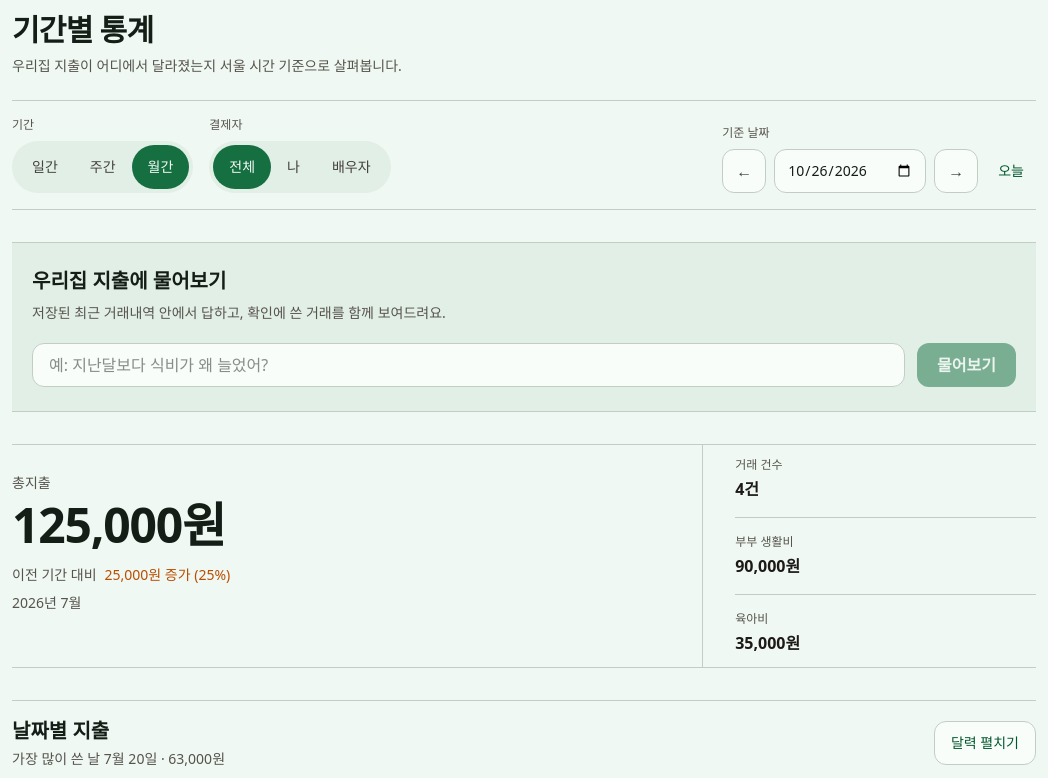
it: SpendingStatisticsPanel › shows the api error when the daily question limit is exhausted
Expected: the text "총지출" is shown, [12,473,51,492]
Type "또 알려줘" into the field named "가계 지출 질문". click: (469,365)
box: [32,343,905,387]
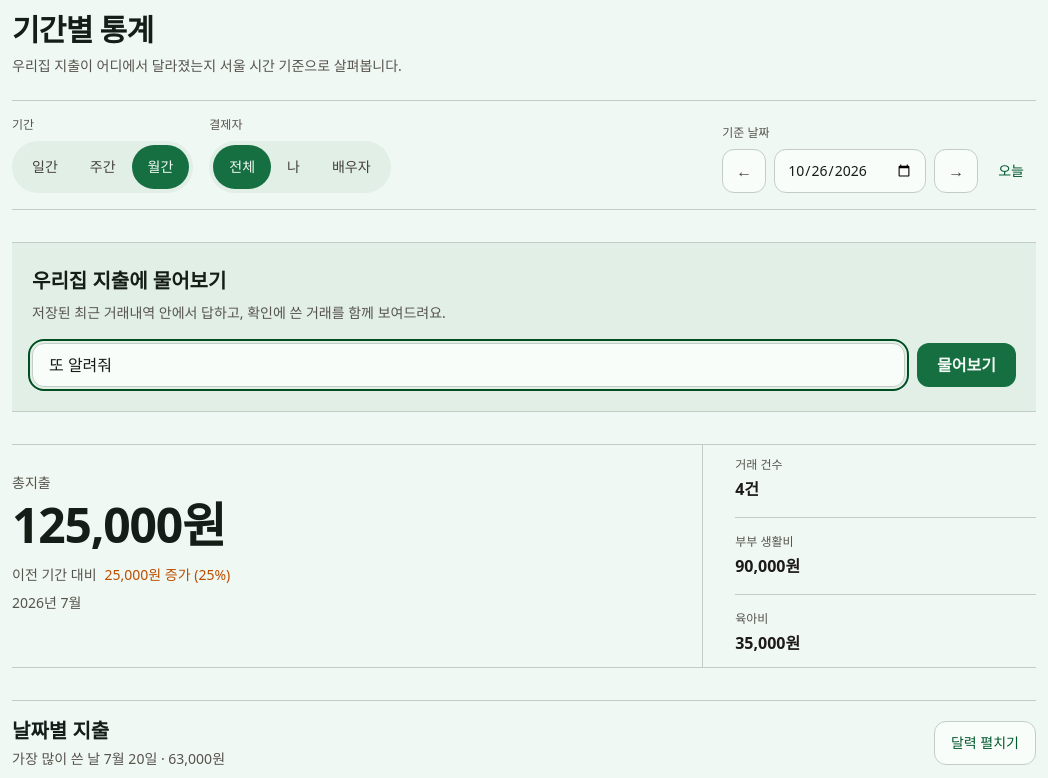
Click the button "물어보기". click: (967,365)
box: [917,343,1016,387]
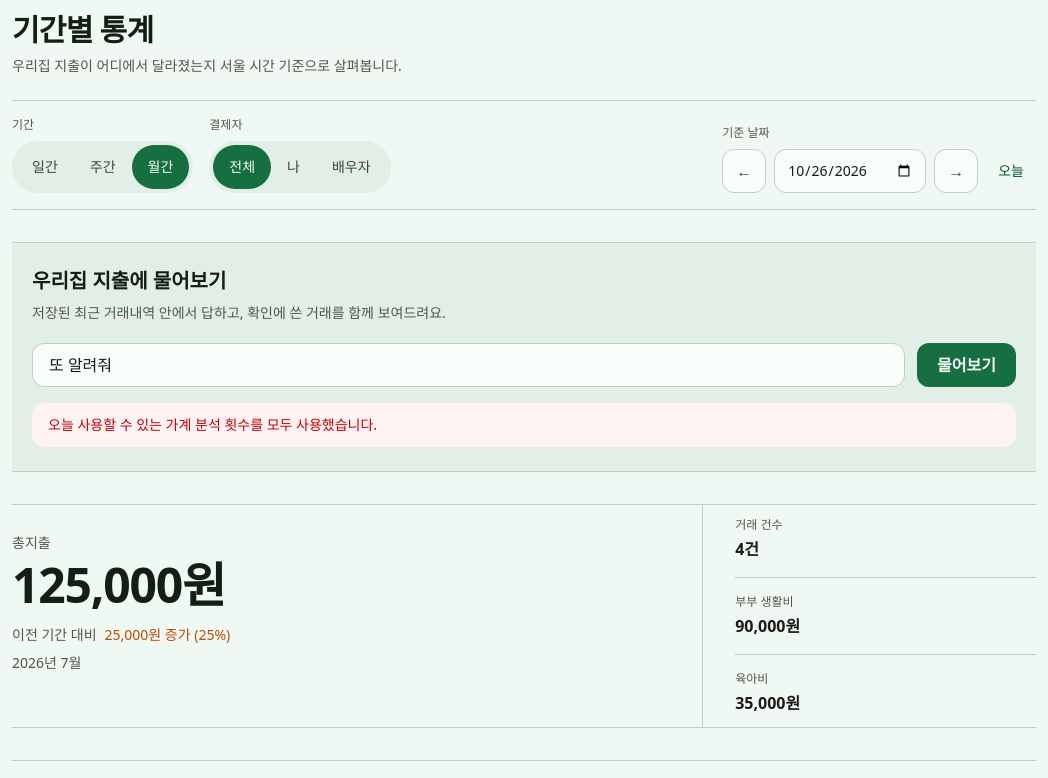
Expected: the message reads "오늘 사용할 수 있는 가계 분석 횟수를 모두 사용했습니다.", [48,415,377,434]
